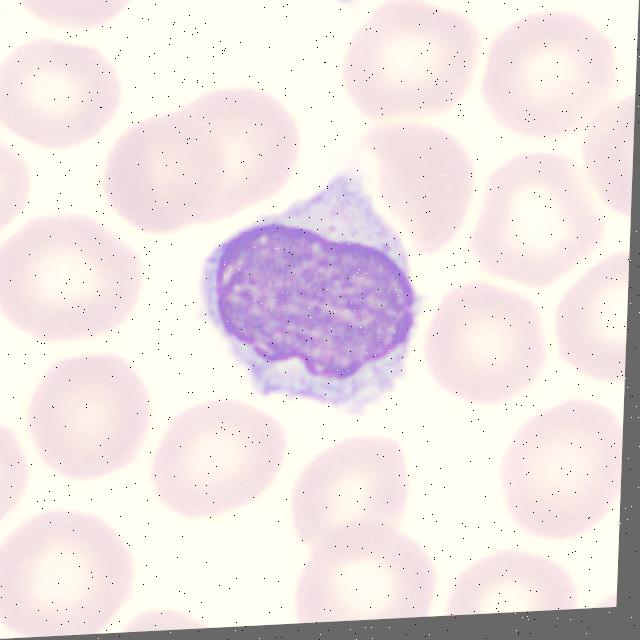lymphocyte: (195, 191, 426, 429)
platelets: (323, 0, 365, 11)
rbc: (20, 348, 159, 488), (483, 1, 624, 136), (176, 71, 294, 222), (91, 107, 217, 246), (0, 215, 140, 338), (501, 401, 624, 538), (357, 117, 473, 261), (478, 143, 603, 275), (149, 397, 284, 513), (289, 431, 422, 548), (347, 0, 478, 117), (0, 514, 121, 639), (421, 280, 545, 401), (0, 43, 128, 152), (302, 525, 436, 623), (551, 258, 629, 388), (446, 549, 581, 616), (582, 84, 636, 231), (12, 0, 146, 38), (0, 117, 36, 247), (100, 596, 220, 634), (0, 413, 33, 538), (393, 0, 524, 8), (577, 589, 617, 609)
